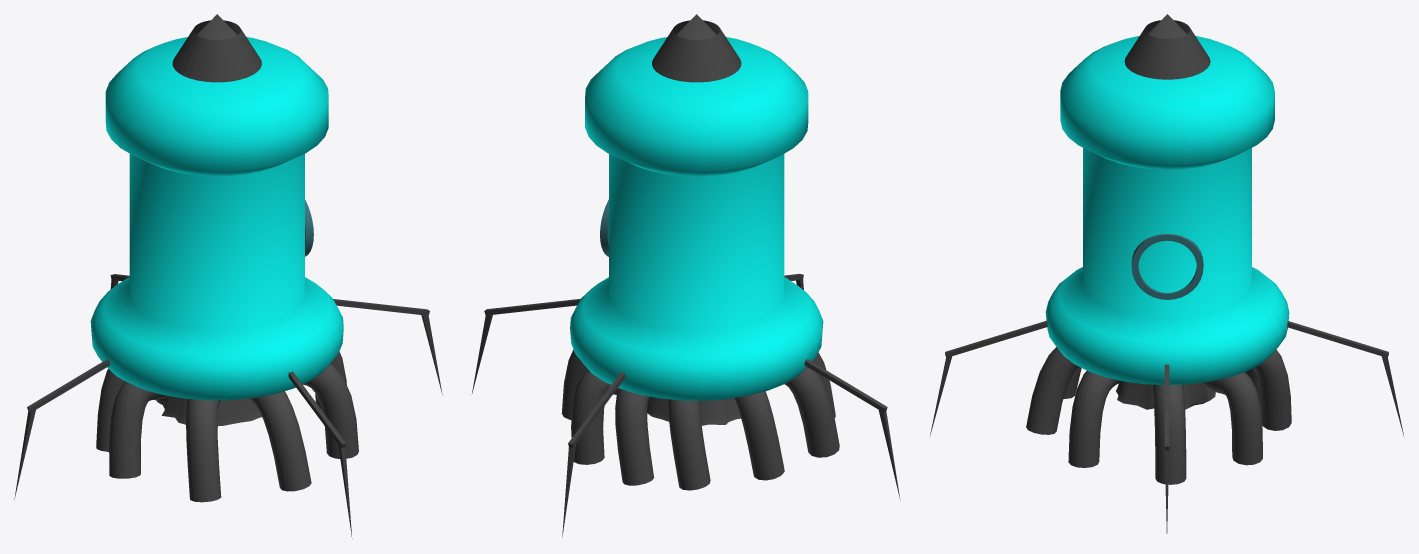
Rendered from KURAGE spaceship.fbx.
3 renders of one model, left to right at view 1: azimuth 30°, elevation 25°; view 2: azimuth 150°, elevation 25°; view 3: azimuth 270°, elevation 25°, orthographic. The views are drawn at different scales.
Visible parts, largest first — view 1: Cylinder.001, BézierCurve.008, BézierCurve.007, BézierCurve.001, BézierCurve.005, BézierCurve.002, Cube.002, Cube.001, Cube.003; view 2: Cylinder.001, BézierCurve.006, BézierCurve.004, BézierCurve.001, BézierCurve.002, BézierCurve, Cube.002, Cube, Cube.003, BézierCurve.003; view 3: Cylinder.001, BézierCurve.005, BézierCurve, BézierCurve.003, BézierCurve.007, BézierCurve.006, Cylinder, Cube.001, Cube, Cube.003.
Boxes of the visible parts, x1,y1,x2,y2 form: Cylinder.001: (90,14,343,426); BézierCurve.008: (186,399,221,502); BézierCurve.007: (249,391,311,491); BézierCurve.001: (109,381,169,478); BézierCurve.005: (303,363,358,458); BézierCurve.002: (96,369,124,451); Cube.002: (14,359,109,499); Cube.001: (288,371,352,538); Cube.003: (333,299,442,395); Cylinder.001: (570,14,823,425); BézierCurve.006: (615,388,654,485); BézierCurve.004: (668,399,710,490); BézierCurve.001: (784,367,839,457); BézierCurve.002: (734,391,784,480); BézierCurve: (571,370,618,464); Cube.002: (804,359,900,499); Cube: (562,372,625,536); Cube.003: (472,298,580,393); BézierCurve.003: (561,349,588,419); Cylinder.001: (1045,14,1289,409); BézierCurve.005: (1068,371,1122,467); BézierCurve: (1202,372,1262,465); BézierCurve.003: (1152,384,1186,484); BézierCurve.007: (1026,347,1078,434); BézierCurve.006: (1253,349,1291,430); Cylinder: (1131,234,1203,299); Cube.001: (929,320,1047,437); Cube: (1287,321,1404,437); Cube.003: (1164,364,1169,533).
Bounding box in the file's own units: 932 × 909 × 932.
